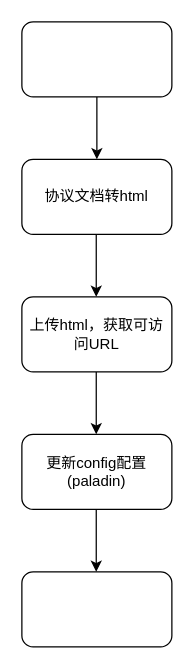
Some shapes in this 194 by 669 pixel diagram are drawn without their labels. The shapes that lost their labels are listed below. From the top down, each one's centre as x and y in pixels, then its label:
[96,59]: 协议文档 doc
[96,609]: 后台触发更新全量更新脚本
